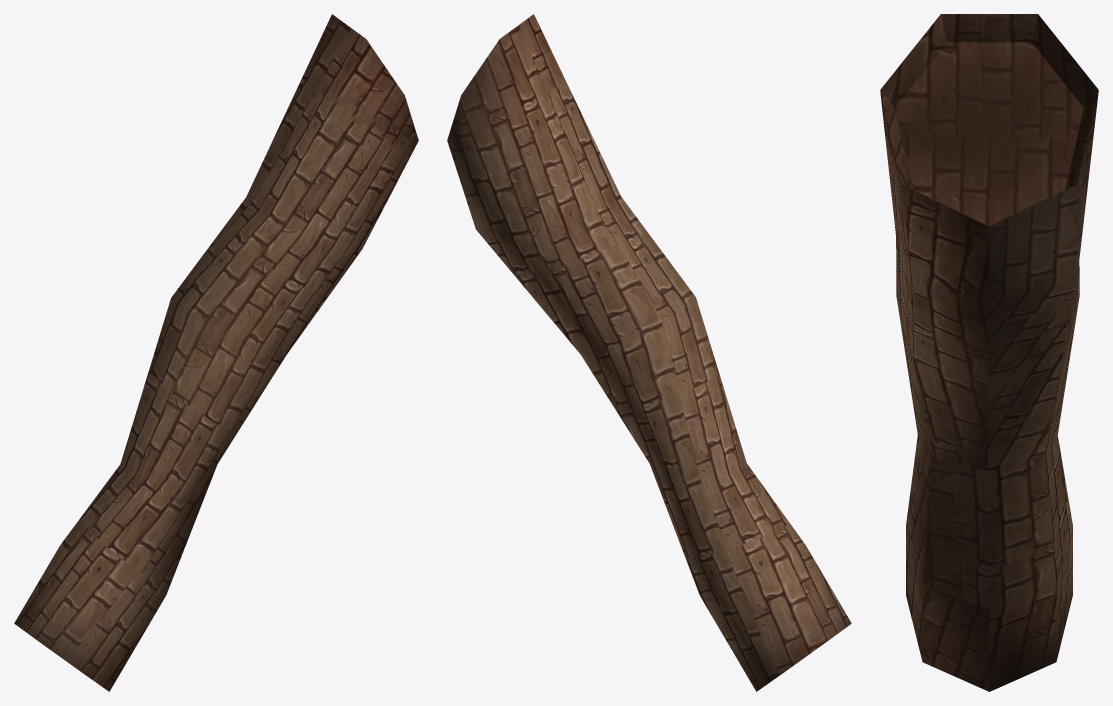
The model's file is Assets_Chimenea.fbx.
The picture shows the model from 3 angles, left to right: view 1: azimuth 30°, elevation 25°; view 2: azimuth 150°, elevation 25°; view 3: azimuth 270°, elevation 25°; orthographic projection. The views are drawn at different scales.
Visible parts, largest first — view 1: Cylinder002; view 2: Cylinder002; view 3: Cylinder002.
Boxes of the visible parts, x1,y1,x2,y2 form: Cylinder002: (14,14,418,691); Cylinder002: (447,14,851,691); Cylinder002: (880,14,1098,691).
Bounding box in the file's own units: 603 × 931 × 217.
Materials: 1 (1 with a texture image).
